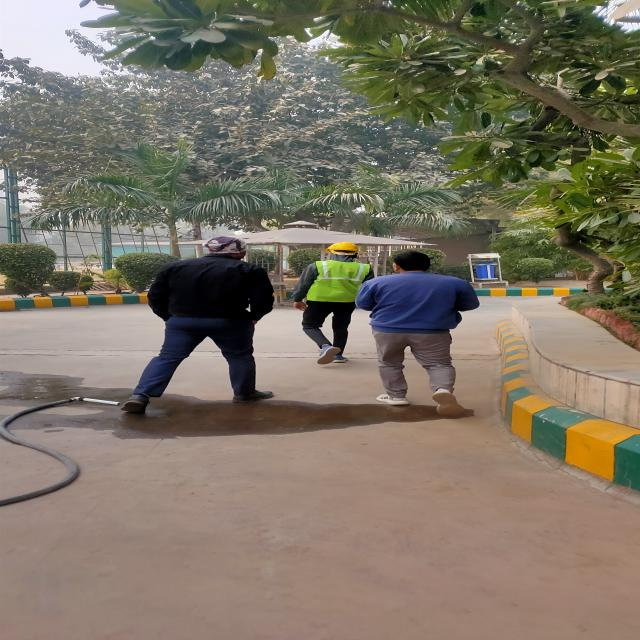safe: (292, 241, 363, 363)
unsafe: (121, 237, 274, 414), (358, 250, 478, 416)
